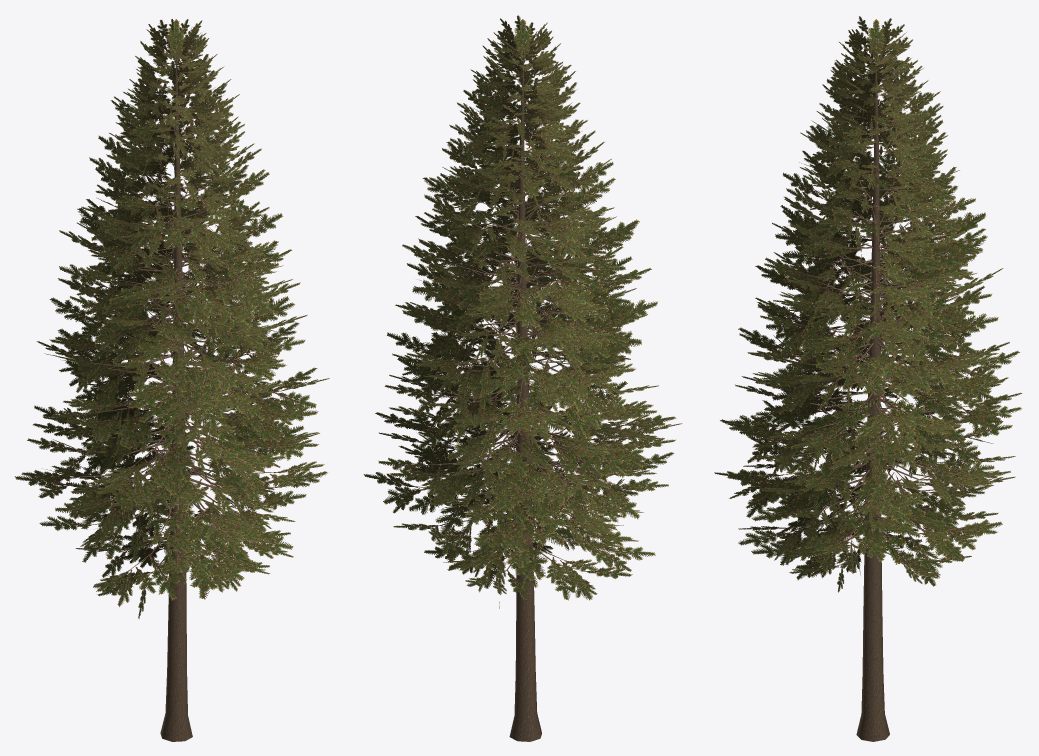
Rendered from fir_tall_a_lod1.gltf.
3 views of the same model, side by side, from view 1: azimuth 30°, elevation 25°; view 2: azimuth 150°, elevation 25°; view 3: azimuth 270°, elevation 25° (orthographic).
Parts seen in each view (by area): view 1: fir_tall_a_LOD1; view 2: fir_tall_a_LOD1; view 3: fir_tall_a_LOD1.
Part boxes in pixels (bbox=[...]): fir_tall_a_LOD1: bbox=[14, 19, 329, 741]; fir_tall_a_LOD1: bbox=[363, 15, 682, 741]; fir_tall_a_LOD1: bbox=[714, 16, 1022, 741].
Size of the model in its own units: 11.99 by 30.59 by 12.09.
2 materials, 2 textured.
